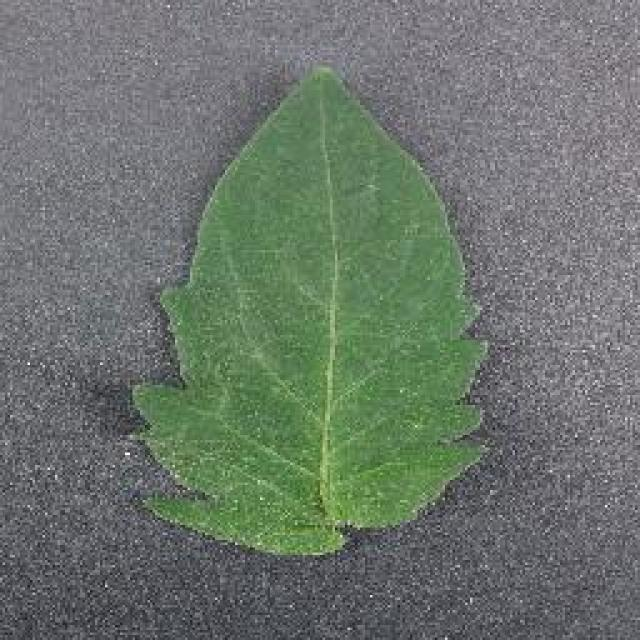Tomato___healthy: (129, 66, 494, 560)
